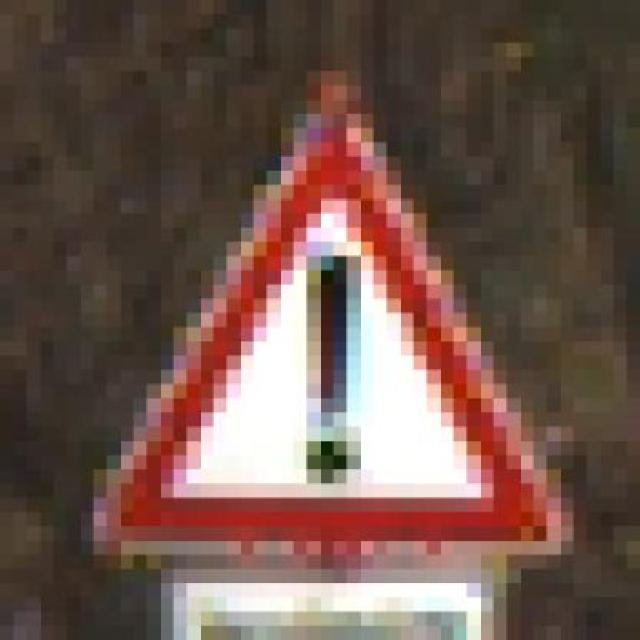Attention Please-: (79, 83, 558, 582)
